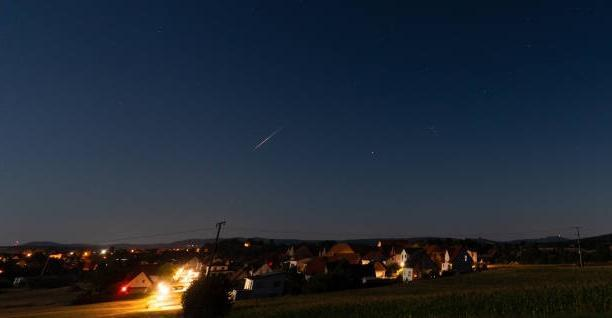meteorite: (240, 127, 297, 152)
